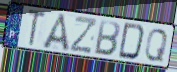A: (41, 13, 71, 54)
B: (92, 19, 121, 58)
D: (117, 22, 146, 62)
Q: (143, 28, 170, 63)
T: (27, 8, 47, 49)
Z: (69, 15, 99, 55)
